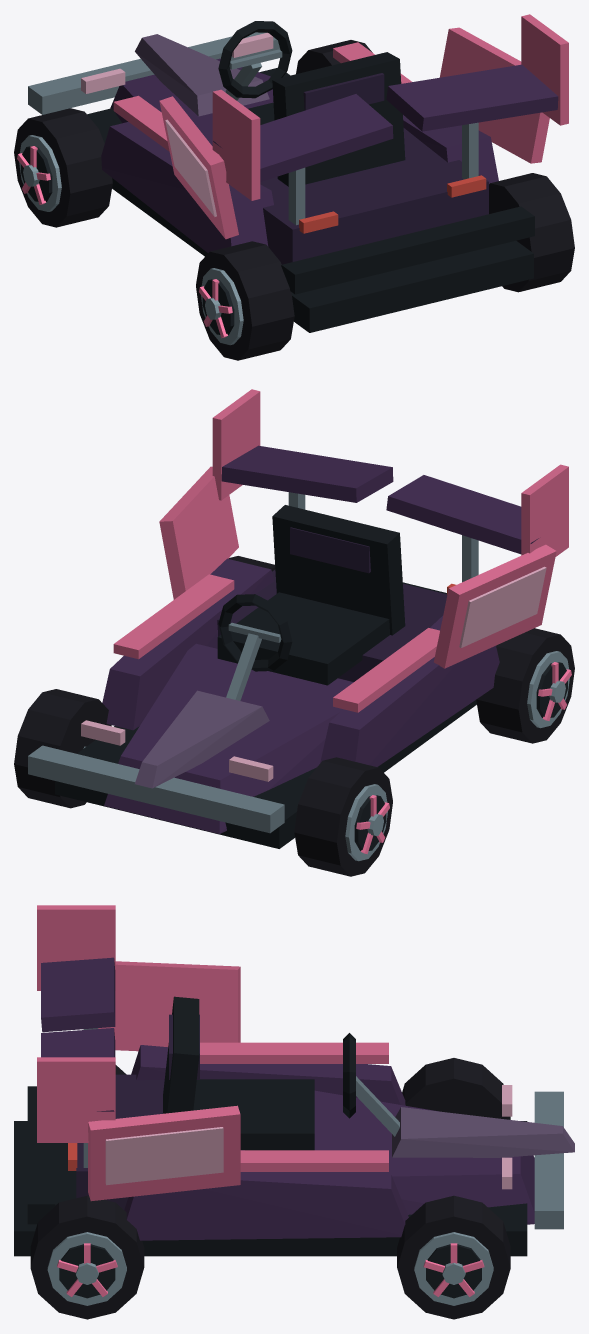
File: kart.glb
The picture shows the model from 3 angles, top to bottom: view 1: azimuth 30°, elevation 25°; view 2: azimuth 150°, elevation 25°; view 3: azimuth 270°, elevation 25°; orthographic projection.
Parts seen in each view (by area): view 1: chassis, wheel-rear-left, wheel-front-left, wheel-rear-right, wheel-front-right; view 2: chassis, wheel-front-left, wheel-rear-left, wheel-front-right; view 3: chassis, wheel-front-right, wheel-rear-right, wheel-front-left.
Part boxes in pixels (x1=…): chassis: x1=28, y1=14, x2=568, y2=332; wheel-rear-left: x1=196, y1=241, x2=294, y2=360; wheel-front-left: x1=14, y1=108, x2=112, y2=227; wheel-rear-right: x1=489, y1=173, x2=574, y2=292; wheel-front-right: x1=296, y1=40, x2=372, y2=73; chassis: x1=28, y1=389, x2=568, y2=848; wheel-front-left: x1=294, y1=757, x2=392, y2=876; wheel-rear-left: x1=476, y1=628, x2=574, y2=743; wheel-front-right: x1=14, y1=689, x2=111, y2=808; chassis: x1=14, y1=905, x2=574, y2=1256; wheel-front-right: x1=397, y1=1195, x2=510, y2=1319; wheel-rear-right: x1=30, y1=1195, x2=144, y2=1319; wheel-front-left: x1=402, y1=1058, x2=510, y2=1119.
Bounding box in the file's own units: 2.22 × 1.54 × 3.06.
